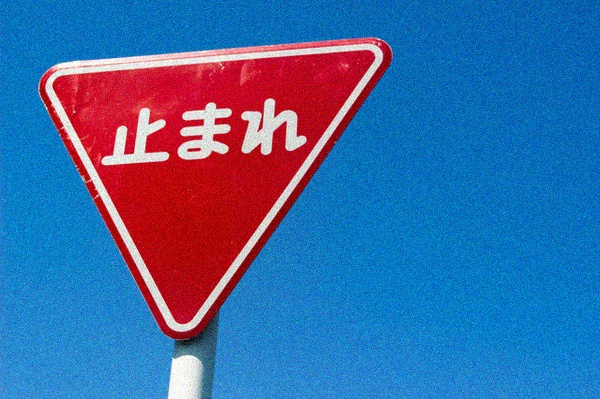Regulatory_sign_triangle: (32, 29, 394, 352)
